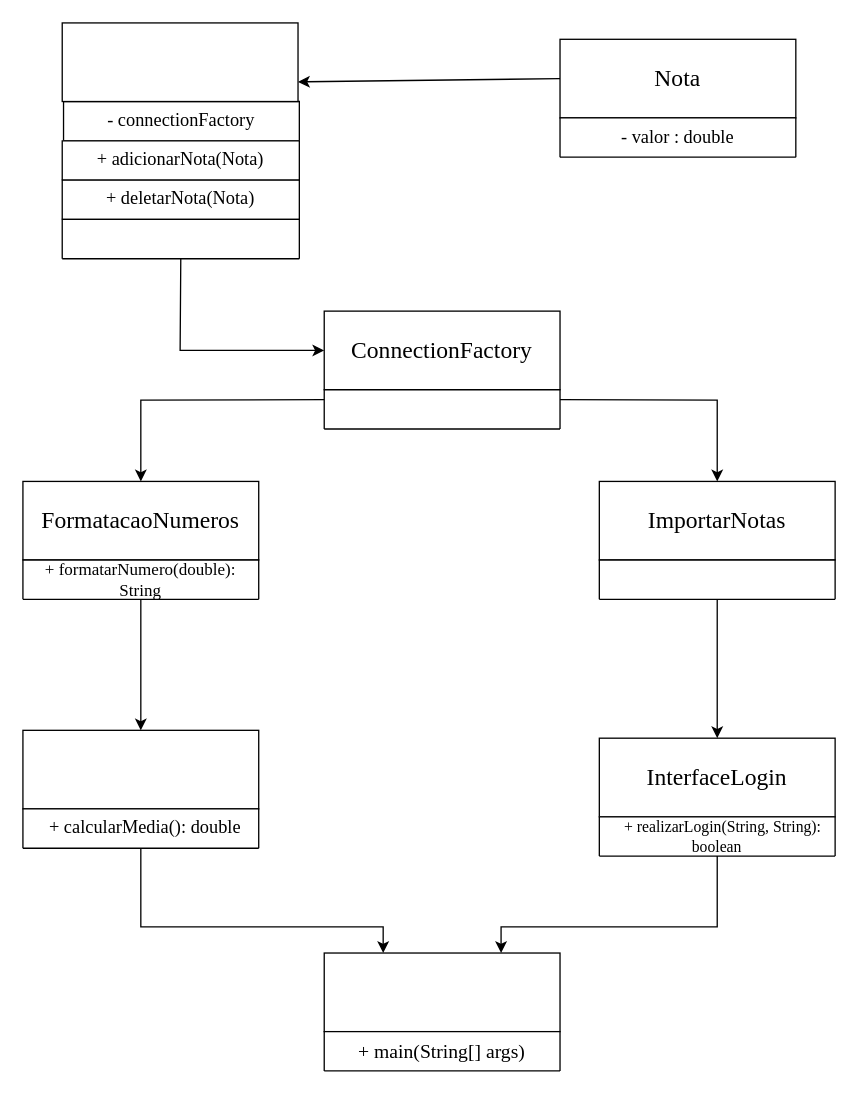
The diagram is 858 pixels wide and 1094 high, and some of its shapes have lost their labels. Here are the shapes that lost their labels. From the top down, the centre of each, then its label:
point 179,62: NotaDAO
point 180,238: + calcularMedia()
point 441,408: - getConnection()
point 716,579: + importar(String): Notas
point 140,769: InterfaceCalculadora
point 441,992: App
